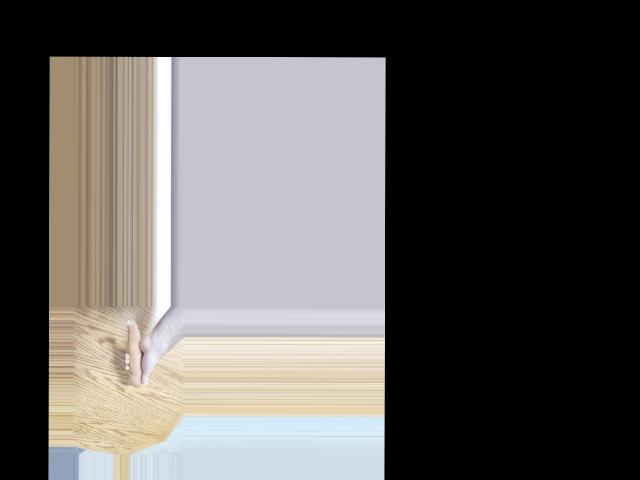sweet_potato: (127, 318, 148, 385)
